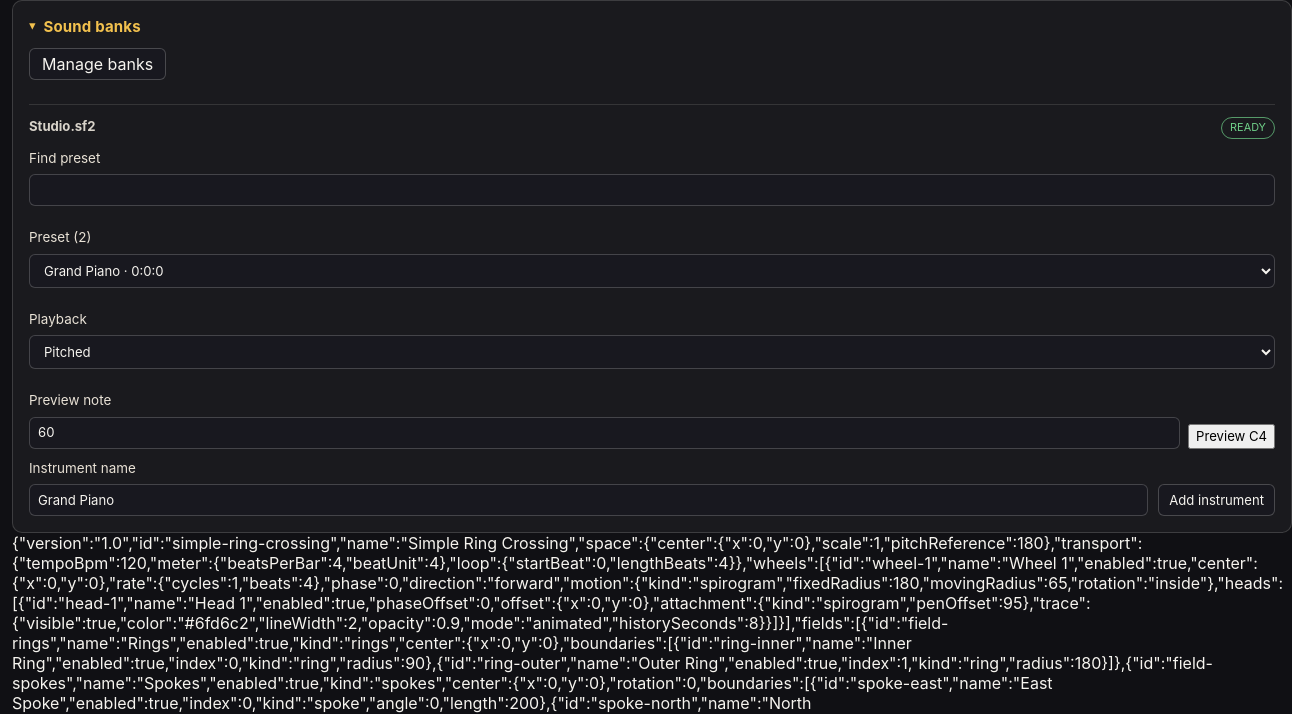
Test: SoundBankPanel › disables drum authoring when a bank has no drum presets
The image size is (1292, 714).
Check: the text "ready" is shown, box [1221,117,1275,139]
Select "Drums" in the dropdown named "Playback bank-studio": (652, 352) [29,335,1275,369]
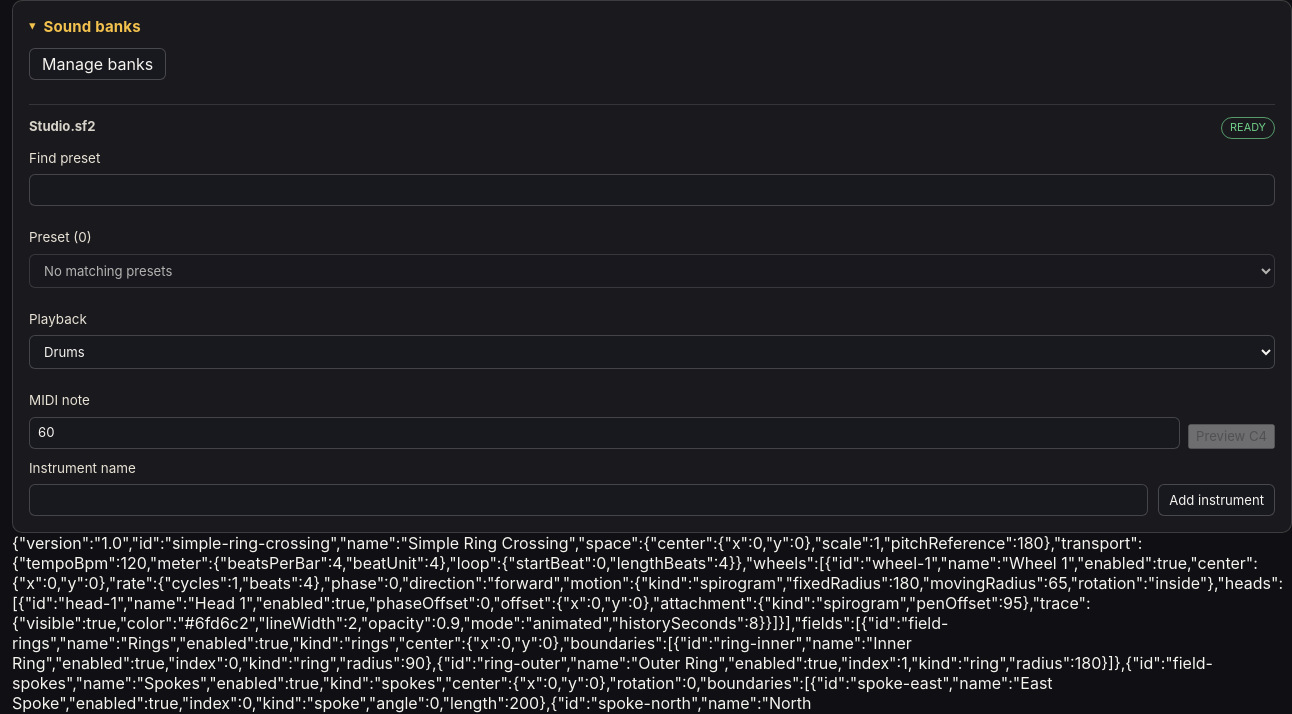
Check: the text "Preset (0)" is shown, box [29,229,92,245]
Check: the dropdown named "Preset bank-studio" is disabled, box [29,254,1275,288]
Check: the button "Preview C4" is disabled, box [1188,424,1275,449]
